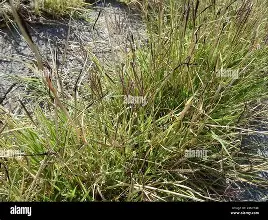weed: (0, 0, 267, 200), (0, 0, 87, 17), (36, 0, 84, 15)
